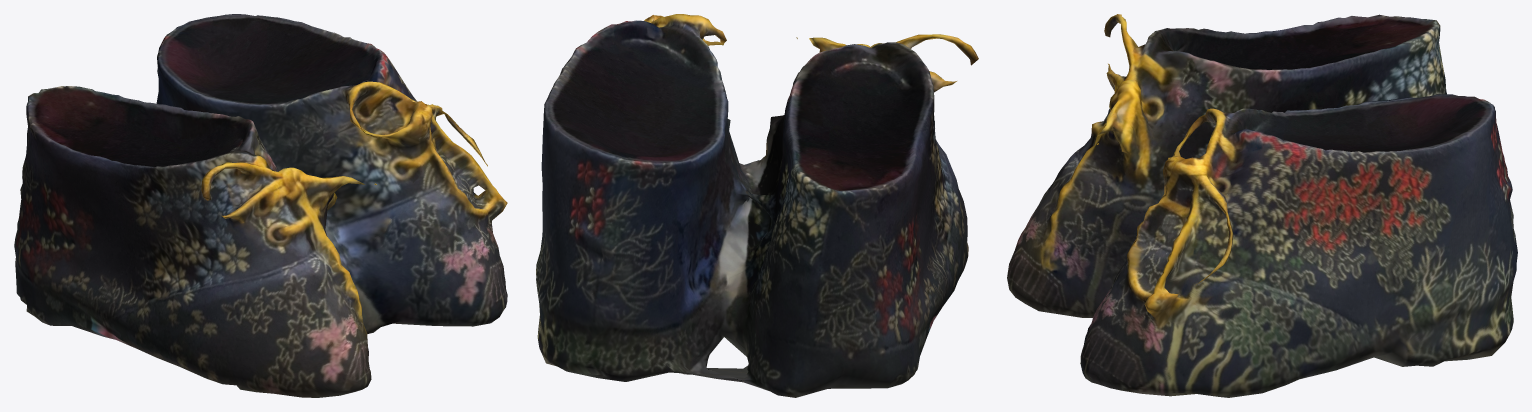
3 renders of one model, left to right at view 1: azimuth 30°, elevation 25°; view 2: azimuth 150°, elevation 25°; view 3: azimuth 270°, elevation 25°, orthographic. The views are drawn at different scales.
Visible parts, largest first — view 1: Untitled Object 9.usdz; view 2: Untitled Object 9.usdz; view 3: Untitled Object 9.usdz.
Boxes of the visible parts, box(x1,y1,x2,y2) form: Untitled Object 9.usdz: box(14, 14, 507, 397); Untitled Object 9.usdz: box(536, 14, 978, 397); Untitled Object 9.usdz: box(1007, 14, 1517, 397).
Size of the model in its own units: 0.1285 by 0.0736 by 0.1361.
1 material, 1 textured.
